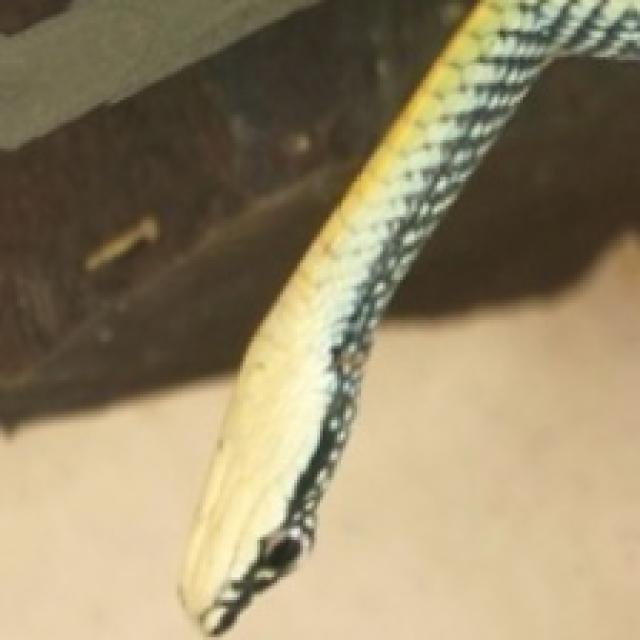paradise tree snake: (180, 0, 637, 631)
